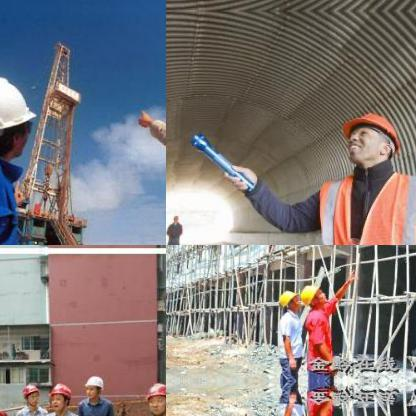Helmet: (336, 106, 400, 170), (0, 65, 41, 159), (142, 380, 165, 414), (46, 381, 70, 411), (82, 372, 104, 398), (302, 282, 320, 309), (278, 289, 298, 313), (21, 380, 39, 404)
